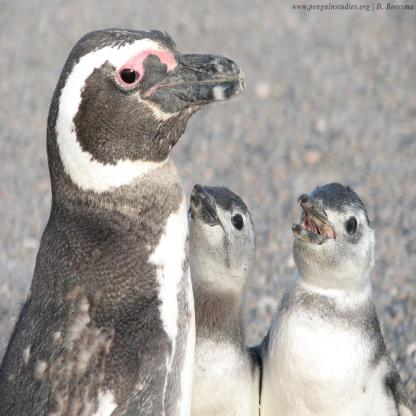Penguin: (0, 16, 251, 416), (259, 170, 416, 416), (146, 171, 275, 416)
